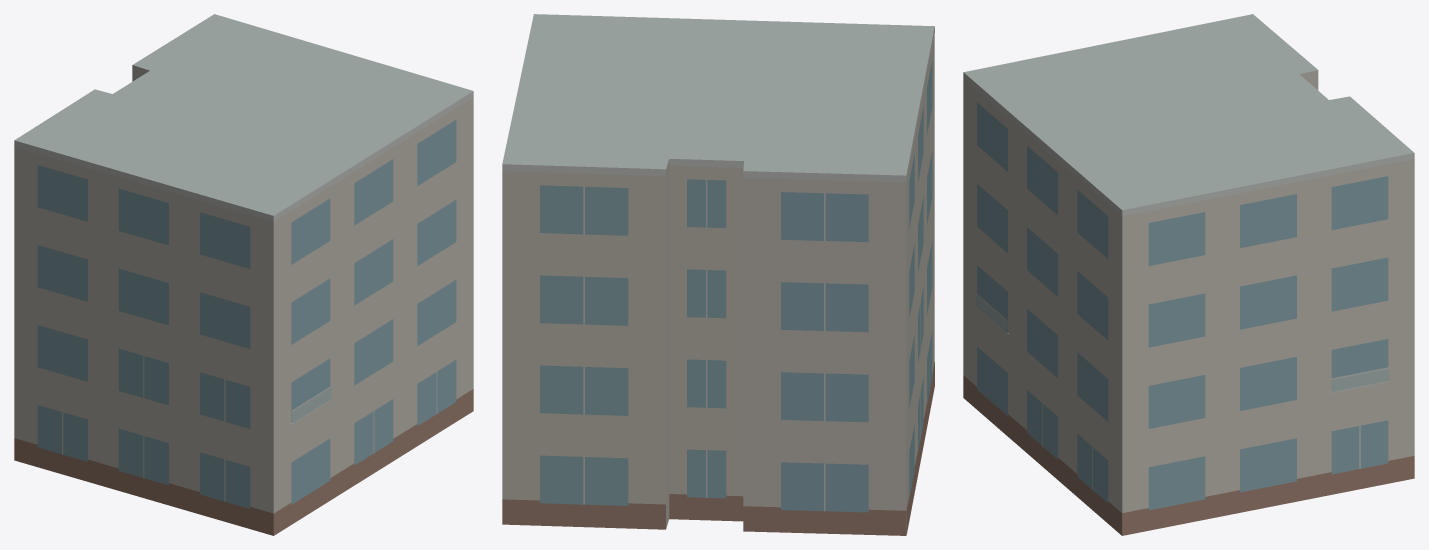
Rendered from survey-upis-32958854.glb.
3 renders of one model, left to right at view 1: azimuth 30°, elevation 25°; view 2: azimuth 150°, elevation 25°; view 3: azimuth 270°, elevation 25°, orthographic. The views are drawn at different scales.
Visible parts, largest first — view 1: survey-upis-32958854.tmp; view 2: survey-upis-32958854.tmp; view 3: survey-upis-32958854.tmp.
Part boxes in pixels (x1,y1,x2,y2): survey-upis-32958854.tmp: (14, 14, 473, 535); survey-upis-32958854.tmp: (502, 14, 934, 535); survey-upis-32958854.tmp: (963, 14, 1414, 535).
Size of the model in its own units: 16.55 by 12.8 by 16.08.
